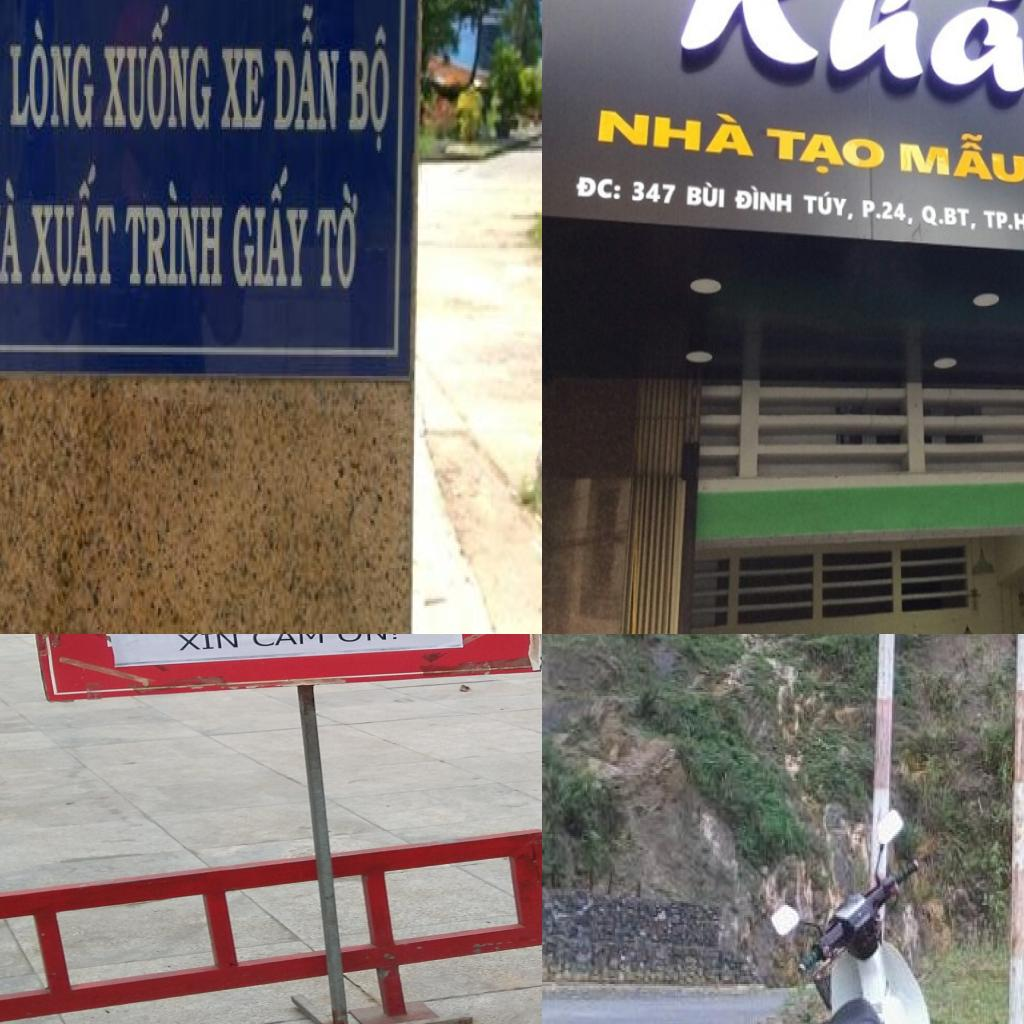text: (671, 0, 1024, 125), (99, 2, 214, 134), (118, 174, 230, 290), (25, 162, 123, 290), (232, 167, 316, 293), (7, 18, 98, 134), (270, 0, 344, 136), (596, 98, 756, 159), (898, 127, 1024, 187), (765, 125, 889, 182), (346, 20, 394, 158), (218, 42, 269, 136), (0, 174, 27, 288), (802, 187, 856, 225), (735, 182, 794, 216), (920, 202, 978, 234), (861, 198, 916, 228), (574, 172, 623, 202), (630, 178, 679, 207), (685, 178, 727, 210), (175, 634, 241, 652), (983, 208, 1024, 236), (249, 634, 326, 648), (334, 634, 399, 644)
